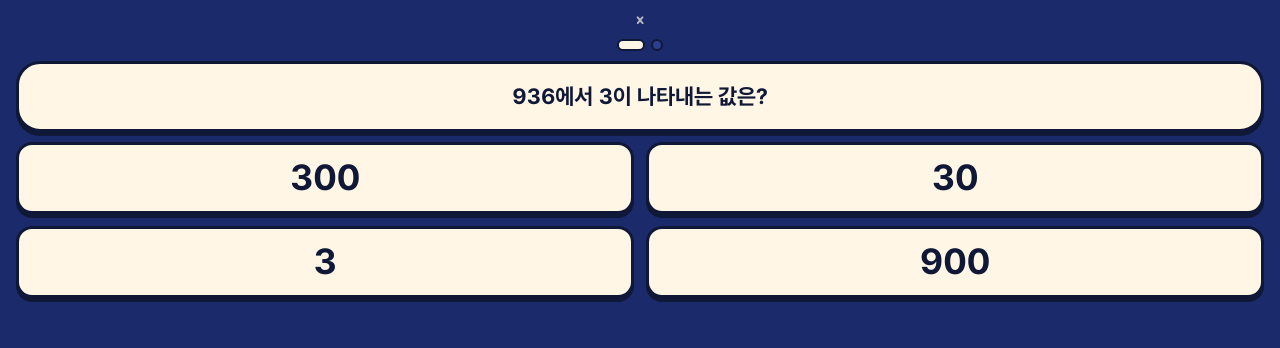
StageScreen — 스테이지 진행 › 첫 시도에 틀리면 다시 맞혀도 점수로 세지 않는다
This screenshot has width=1280, height=348.
Later steps or results of the test are not shown.
What coordinates should you click on to do the following:
click the button "300"
I would click on:
 (325, 178)
Its box is [16,142,634,214].
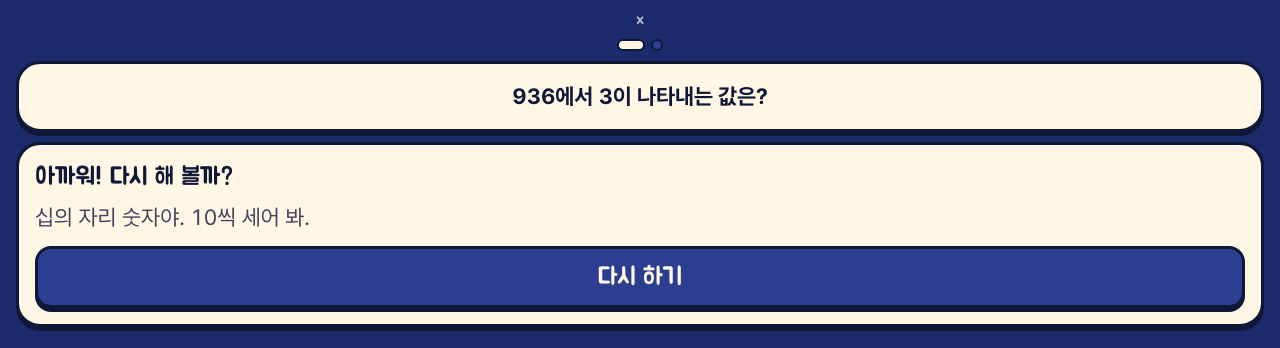
expect the text "아까워! 다시 해 볼까?" is shown: met, box [35,165,234,189]
